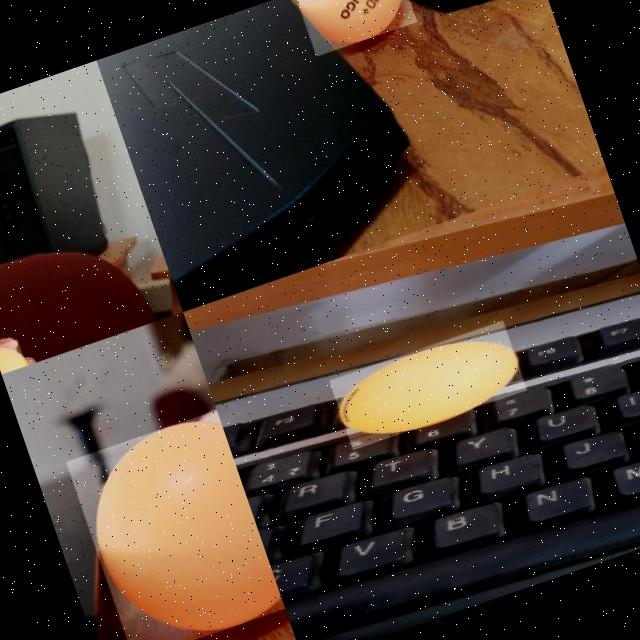ping-pong-ball: (63, 408, 283, 640), (327, 318, 528, 449), (293, 0, 418, 57), (0, 336, 26, 372)
